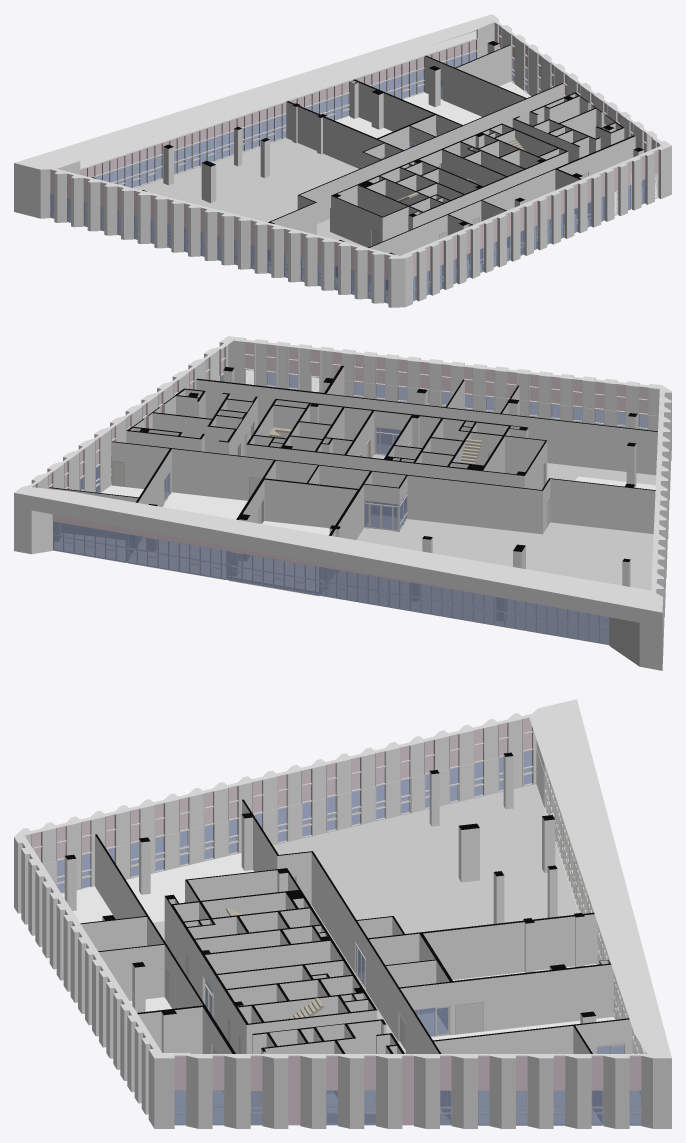
3 renders of one model, top to bottom at view 1: azimuth 30°, elevation 25°; view 2: azimuth 150°, elevation 25°; view 3: azimuth 270°, elevation 25°, orthographic. The views are drawn at different scales.
Parts seen in each view (by area): view 1: A7_8F_outWall001, A7_8F_Wall001, A7_8F_Window001, A7_8F_Floor, A7_8F_WindowFrame001; view 2: A7_8F_Wall001, A7_8F_outWall001, A7_8F_Floor, A7_8F_Window001, A7_8F_WindowFrame001, A7_8F_GlassDoor001, A7_8F_Door001, A7_8F_Stairs001; view 3: A7_8F_Wall001, A7_8F_outWall001, A7_8F_Floor, A7_8F_Window001, A7_8F_WindowFrame001, A7_8F_GlassDoor001, A7_8F_Door001.
Boxes of the visible parts, x1,y1,x2,y2 form: A7_8F_outWall001: (14, 14, 671, 307); A7_8F_Wall001: (92, 41, 643, 290); A7_8F_Window001: (50, 26, 661, 303); A7_8F_Floor: (52, 81, 656, 301); A7_8F_WindowFrame001: (50, 24, 660, 303); A7_8F_Wall001: (49, 365, 657, 621); A7_8F_outWall001: (14, 336, 671, 670); A7_8F_Floor: (53, 444, 656, 643); A7_8F_Window001: (33, 342, 664, 644); A7_8F_WindowFrame001: (32, 342, 648, 644); A7_8F_GlassDoor001: (130, 425, 407, 555); A7_8F_Door001: (112, 421, 549, 527); A7_8F_Stairs001: (269, 427, 481, 464); A7_8F_Wall001: (64, 752, 632, 1123); A7_8F_outWall001: (14, 699, 671, 1128); A7_8F_Floor: (62, 784, 641, 1125); A7_8F_Window001: (22, 718, 645, 1125); A7_8F_WindowFrame001: (31, 717, 645, 1124); A7_8F_GlassDoor001: (202, 941, 625, 1053); A7_8F_Door001: (165, 876, 483, 1119).
Bounding box in the file's own units: 62.12 × 6.01 × 48.09.
